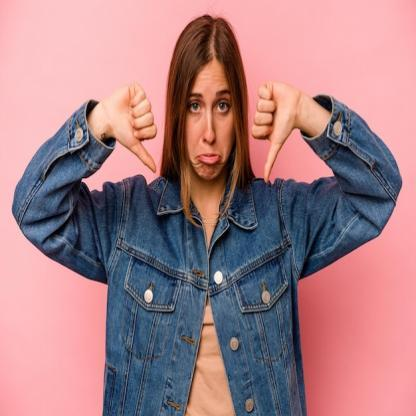thumb_down: (105, 77, 165, 177), (250, 75, 300, 183)
